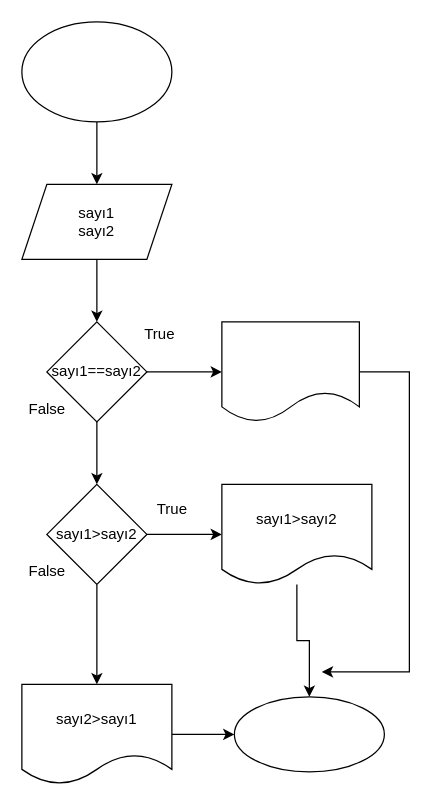
The diagram is 441 pixels wide and 806 high, and some of its shapes have lost their labels. The shapes that lost their labels are listed below. From the top down, each one's box as (x1, y1, x2, y2) in pixels, then its label:
(21, 21, 172, 122): Başla
(221, 321, 359, 422): sayı1=sayı2
(233, 696, 384, 772): Dur
